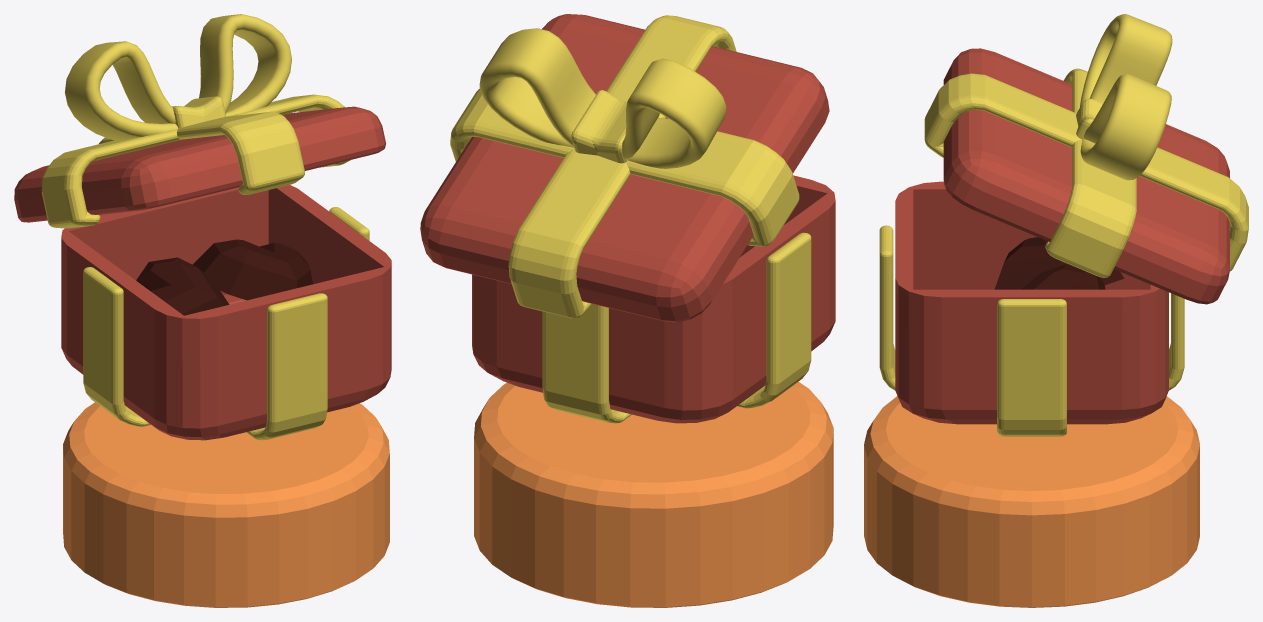
The model's file is 532_chocolate.fbx.
3 views of the same model, side by side, from view 1: azimuth 30°, elevation 25°; view 2: azimuth 150°, elevation 25°; view 3: azimuth 270°, elevation 25° (orthographic). The views are drawn at different scales.
Parts seen in each view (by area): view 1: box, base.007, lid; view 2: lid, base.007, box; view 3: base.007, lid, box.
Part boxes in pixels (x1=…): box: x1=61, y1=185, x2=391, y2=440; base.007: x1=63, y1=402, x2=389, y2=607; lid: x1=14, y1=14, x2=385, y2=228; lid: x1=420, y1=14, x2=829, y2=322; base.007: x1=474, y1=381, x2=833, y2=607; box: x1=472, y1=175, x2=835, y2=423; base.007: x1=864, y1=396, x2=1199, y2=607; lid: x1=924, y1=14, x2=1248, y2=304; box: x1=879, y1=181, x2=1184, y2=436.
Bounding box in the file's own units: 371 × 590 × 420.
